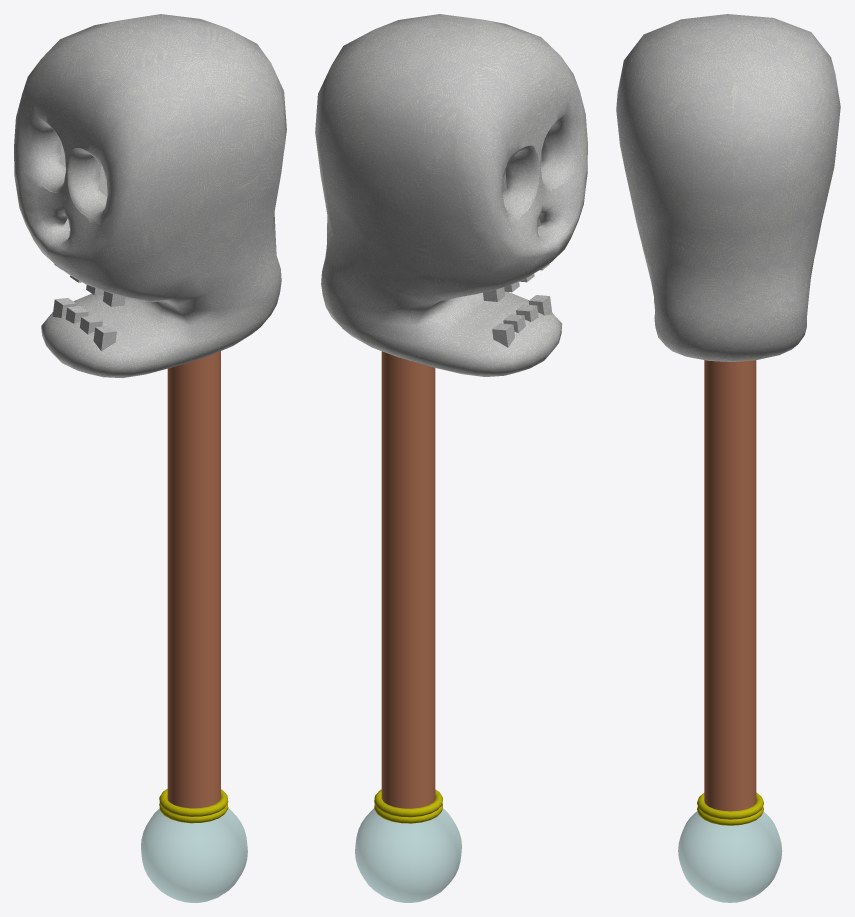
Rendered from wizardStaff2.fbx.
The picture shows the model from 3 angles, left to right: view 1: azimuth 30°, elevation 25°; view 2: azimuth 150°, elevation 25°; view 3: azimuth 270°, elevation 25°; orthographic projection. The views are drawn at different scales.
Visible parts, largest first — view 1: Skull2, polySurface3, polySurface4; view 2: Skull2, polySurface3, polySurface4; view 3: Skull2, polySurface3, polySurface4.
Boxes of the visible parts, bbox=[...] form: Skull2: bbox=[14, 14, 286, 377]; polySurface3: bbox=[141, 351, 247, 902]; polySurface4: bbox=[14, 14, 286, 377]; Skull2: bbox=[315, 14, 587, 376]; polySurface3: bbox=[355, 351, 461, 902]; polySurface4: bbox=[315, 14, 587, 376]; Skull2: bbox=[616, 14, 840, 361]; polySurface3: bbox=[678, 360, 782, 902]; polySurface4: bbox=[616, 14, 840, 361].
Size of the model in its own units: 1.98 by 7.31 by 1.75.
